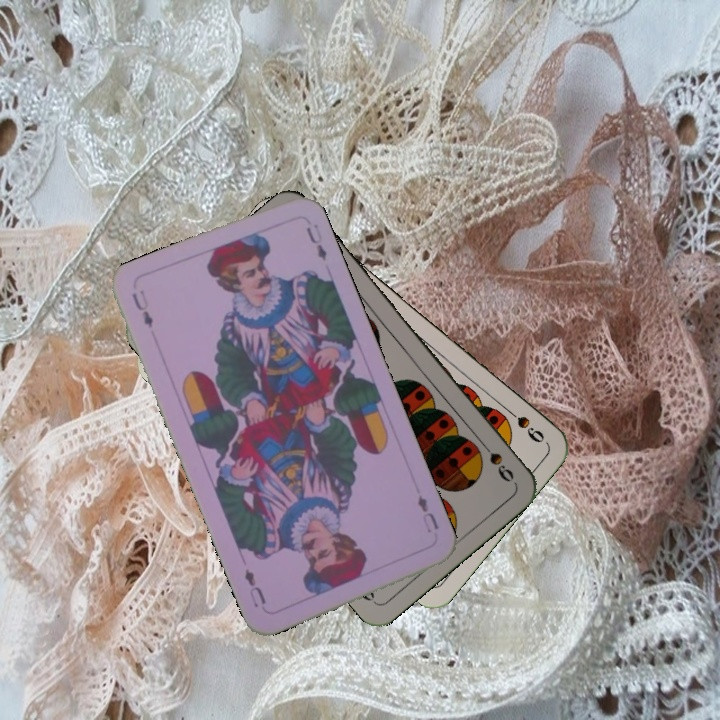EU: (127, 285, 156, 331), (413, 491, 442, 535)
S9: (498, 401, 547, 446), (474, 435, 517, 485)
